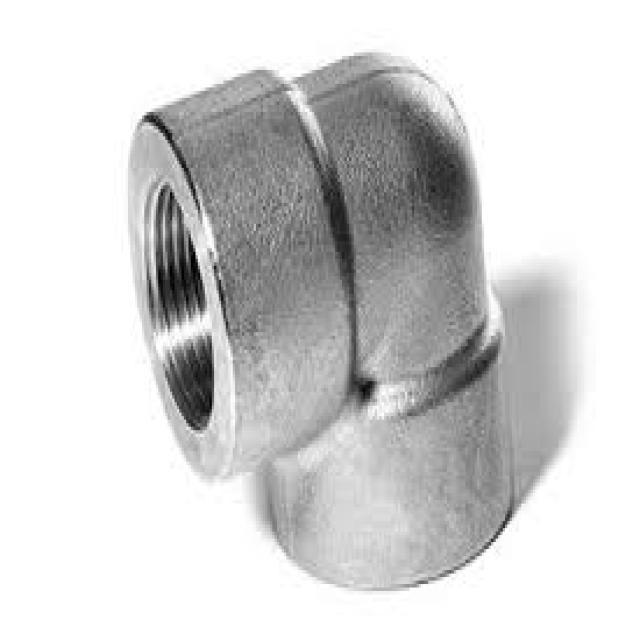Dry Waste: (109, 31, 561, 640)
